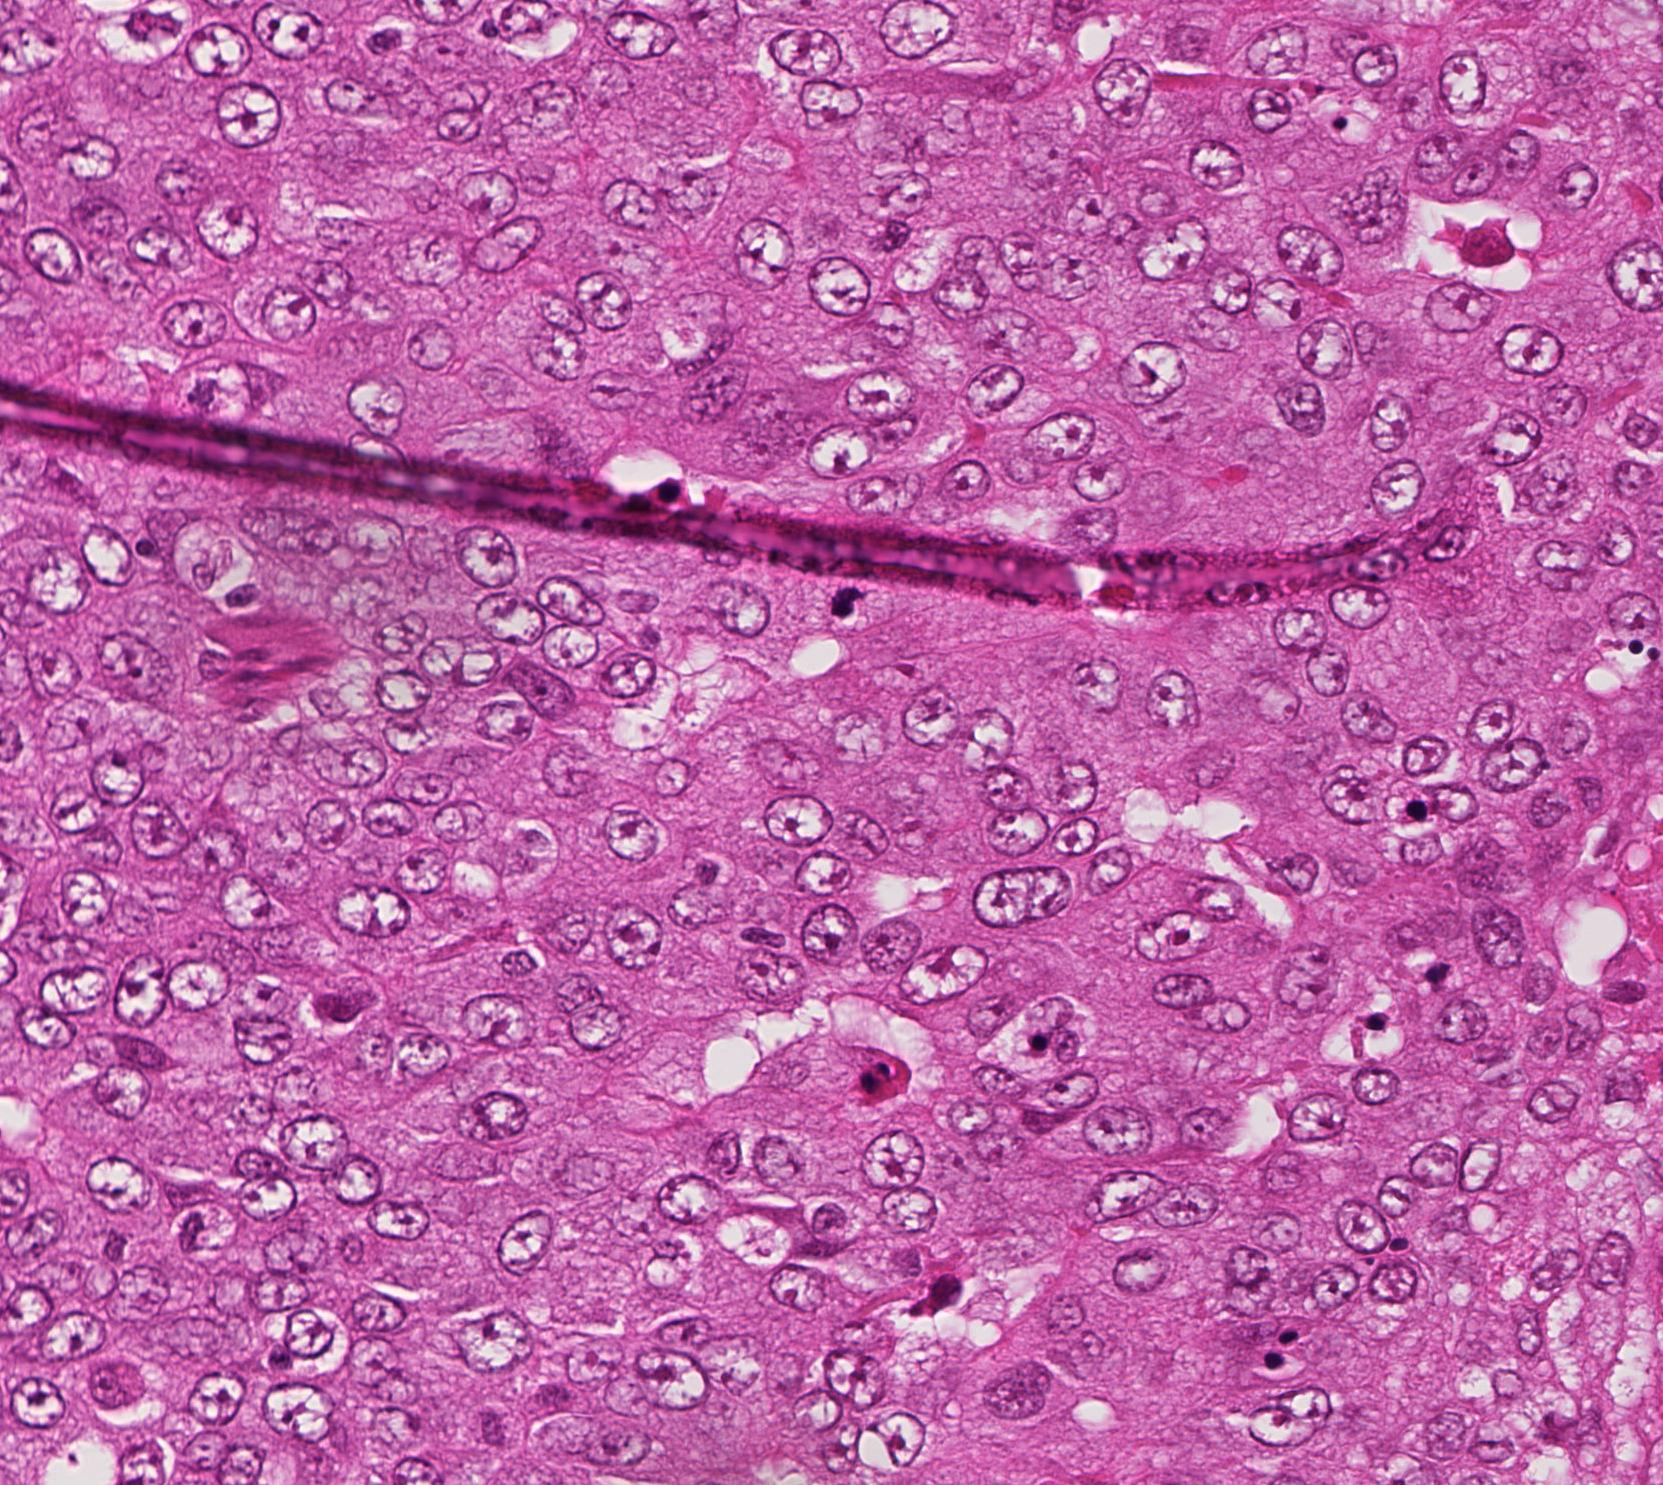mitosis: (816, 570, 876, 631)
